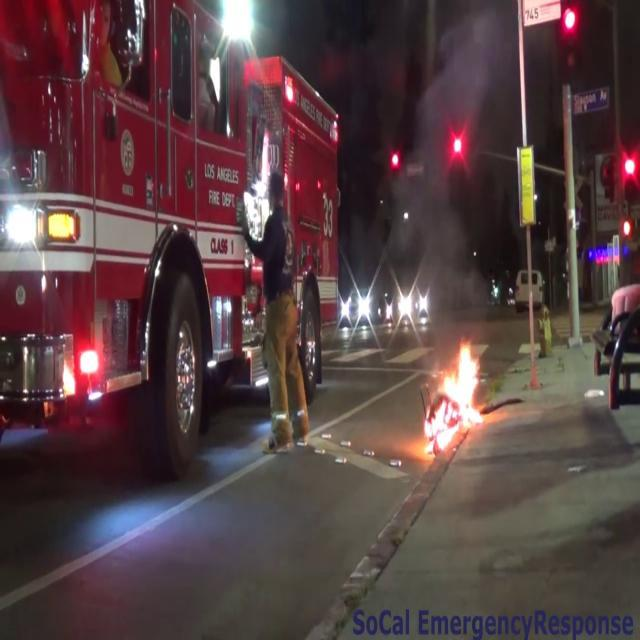Fire: (416, 339, 486, 458)
Smoke: (398, 0, 505, 320)
